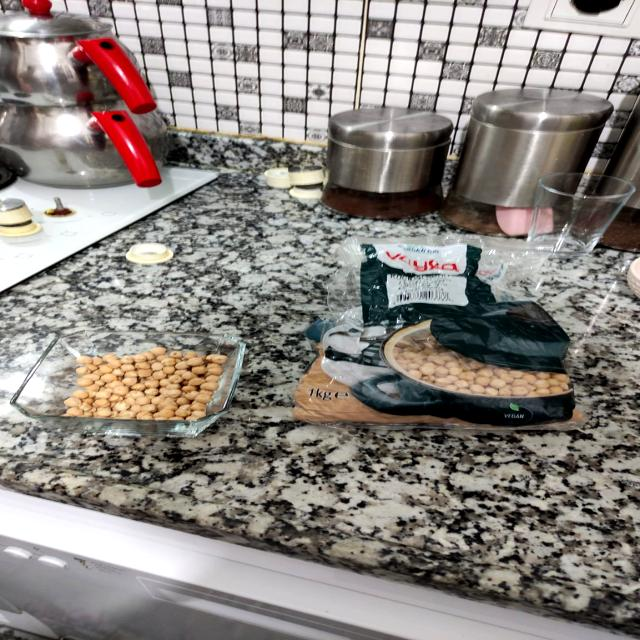chickpeas: (276, 298, 614, 426), (35, 329, 252, 430)
